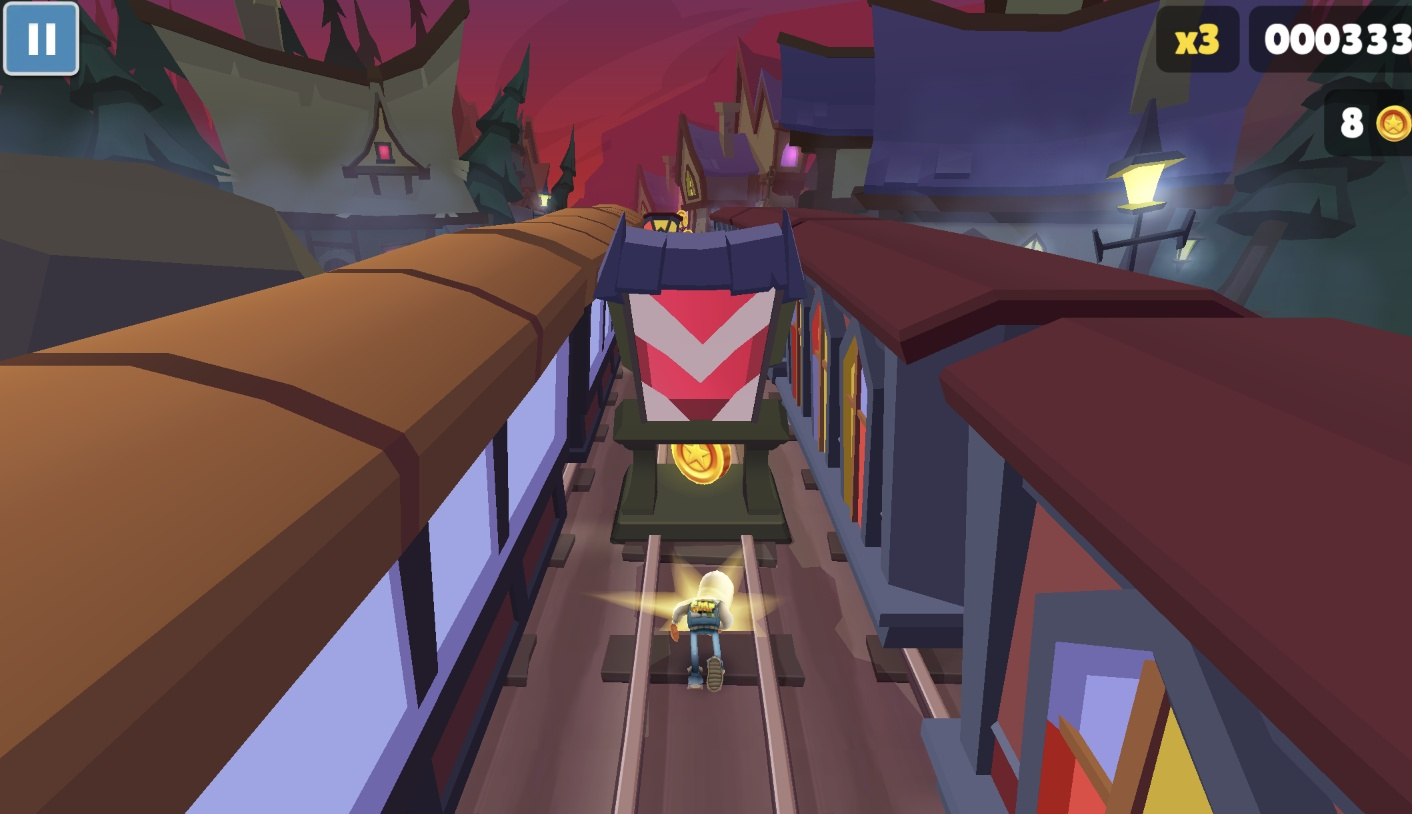overhead_barrier: (589, 212, 809, 553)
train: (711, 206, 1412, 814), (0, 204, 635, 814), (640, 211, 686, 235)
